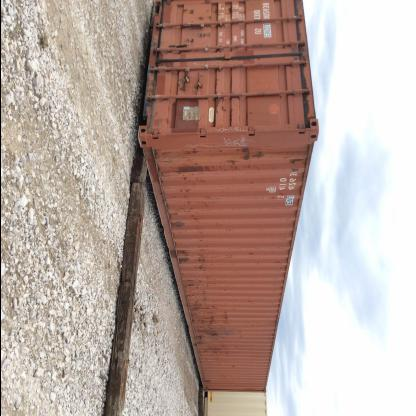Damage: (288, 4, 318, 142), (191, 312, 241, 352), (176, 239, 210, 275), (173, 156, 211, 186), (235, 138, 265, 172), (178, 280, 216, 304), (168, 212, 200, 232)
